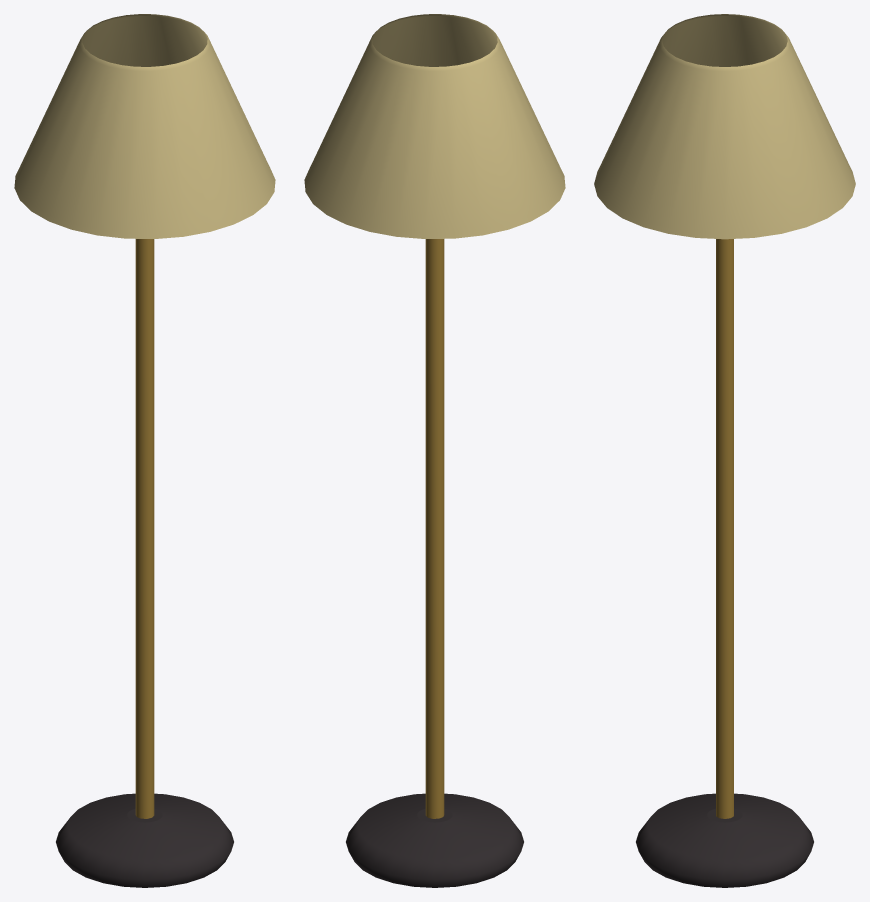
File: furn_lamp_floor.glb
3 views of the same model, side by side, from view 1: azimuth 30°, elevation 25°; view 2: azimuth 150°, elevation 25°; view 3: azimuth 270°, elevation 25° (orthographic).
Visible parts, largest first — view 1: furn_lamp_floor_main; view 2: furn_lamp_floor_main; view 3: furn_lamp_floor_main.
Boxes of the visible parts, <box> form: furn_lamp_floor_main: <box>14,14,275,887</box>; furn_lamp_floor_main: <box>304,14,565,887</box>; furn_lamp_floor_main: <box>594,14,855,887</box>.
Size of the model in its own units: 0.44 by 1.51 by 0.44.
